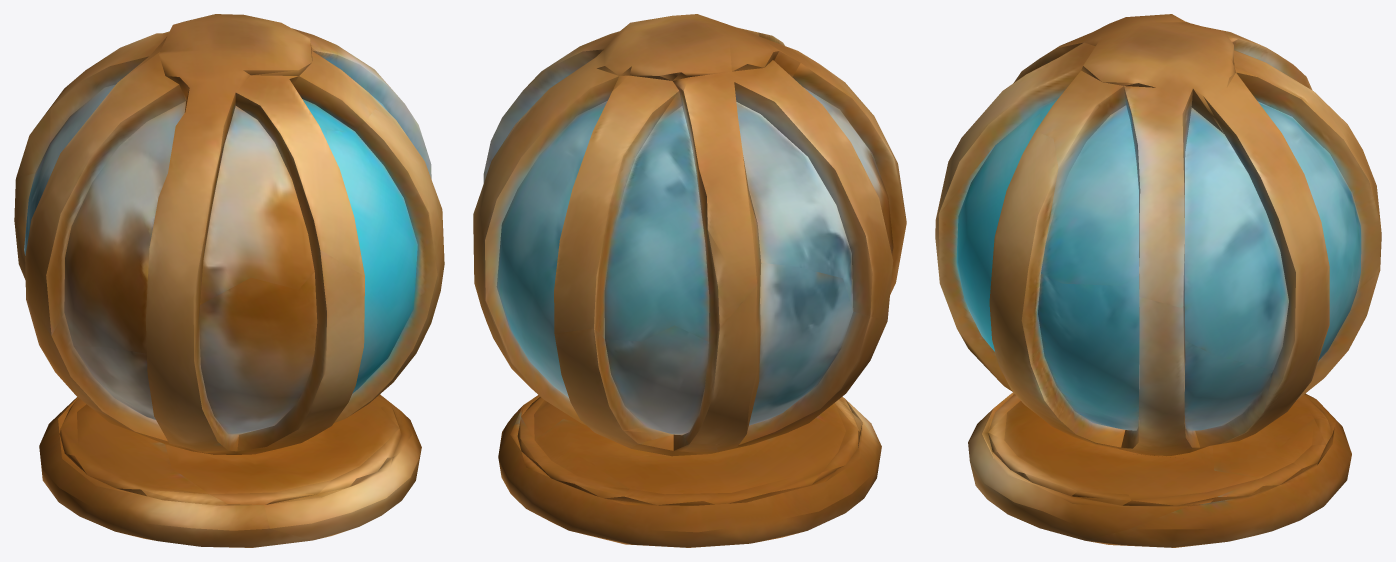
The model's file is m2ScoreOrb.glb.
3 renders of one model, left to right at view 1: azimuth 30°, elevation 25°; view 2: azimuth 150°, elevation 25°; view 3: azimuth 270°, elevation 25°, orthographic.
Parts seen in each view (by area): view 1: model; view 2: model; view 3: model.
Part boxes in pixels (x1,y1,x2,y2): model: (14, 14, 444, 547); model: (473, 14, 906, 547); model: (935, 14, 1381, 547).
Bounding box in the file's own units: 1.77 × 1.9 × 1.77.
Materials: 1 (1 with a texture image).
